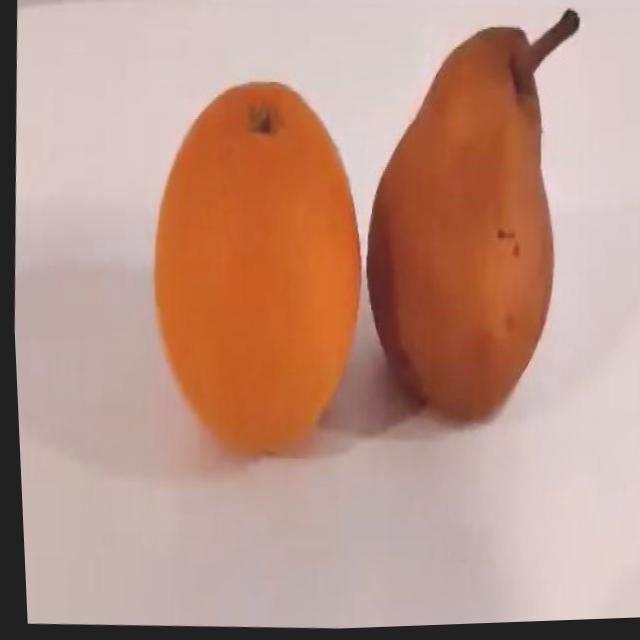Orange: (133, 74, 375, 467)
